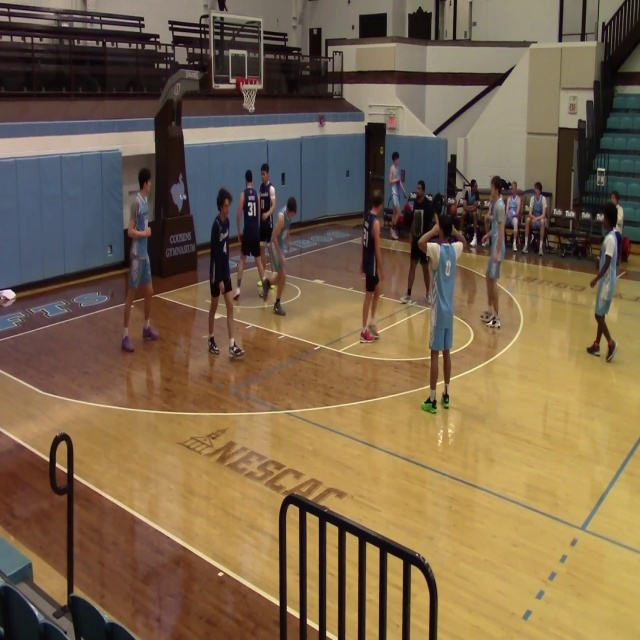Basketball: (0, 289, 16, 302), (268, 271, 279, 285)
